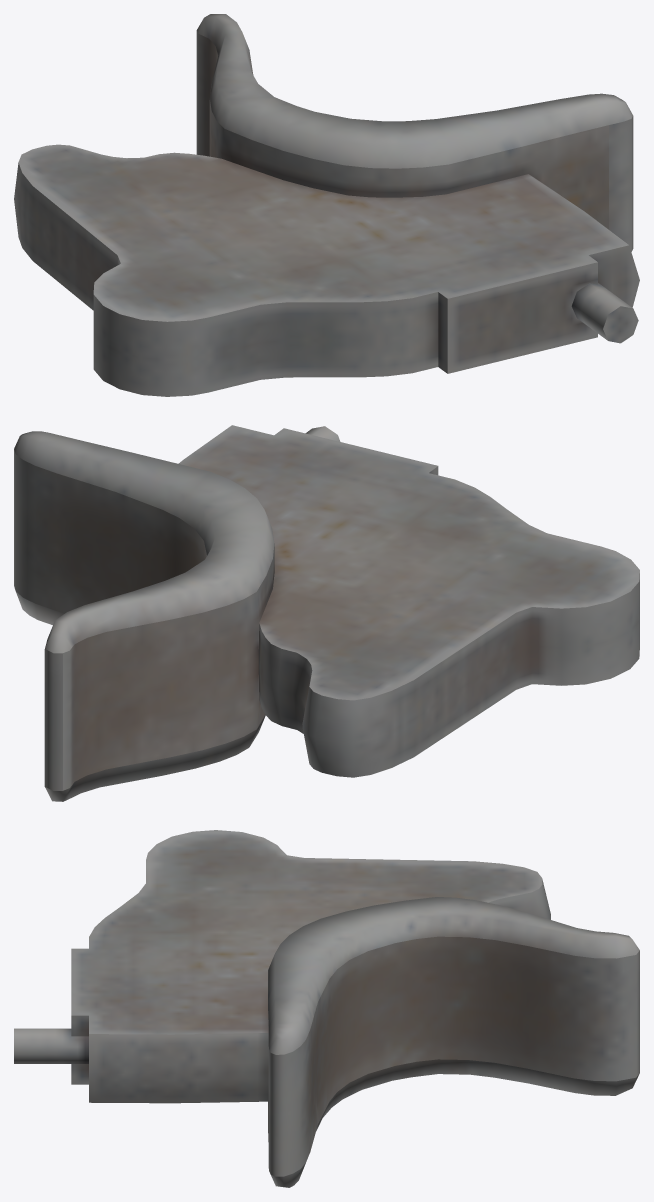
File: SM_RageBull_01f.fbx
3 views of the same model, one above another, from view 1: azimuth 30°, elevation 25°; view 2: azimuth 150°, elevation 25°; view 3: azimuth 270°, elevation 25° (orthographic). The views are drawn at different scales.
Visible parts, largest first — view 1: SM_RageBull_01f_LOD0; view 2: SM_RageBull_01f_LOD0; view 3: SM_RageBull_01f_LOD0.
Boxes of the visible parts, x1,y1,x2,y2 form: SM_RageBull_01f_LOD0: (14,14,639,396); SM_RageBull_01f_LOD0: (14,425,639,801); SM_RageBull_01f_LOD0: (14,830,639,1187).
Size of the model in its own units: 4.5 by 4.73 by 1.32.
